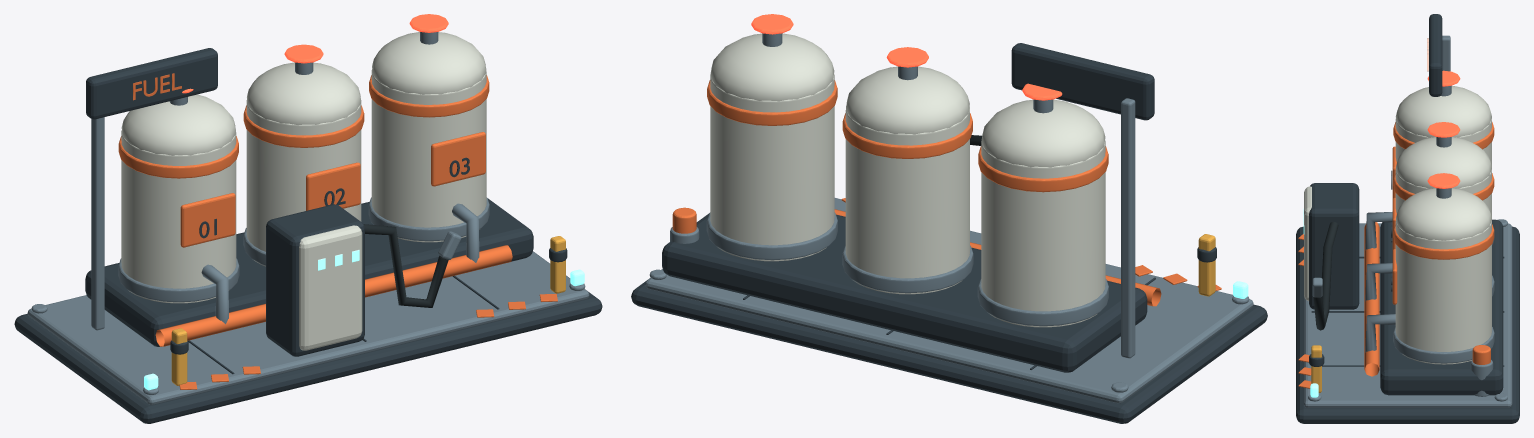
File: fuel-station.glb
3 views of the same model, side by side, from view 1: azimuth 30°, elevation 25°; view 2: azimuth 150°, elevation 25°; view 3: azimuth 270°, elevation 25° (orthographic). The views are drawn at different scales.
Visible parts, largest first — view 1: Fuel deck, Fuel pressure vessel, Fuel foundation, Fuel pressure vessel.002, Fuel tank raft, Fuel pressure vessel.001, Fuel pump skin, Fuel pump chassis, Fuel rounded crown.001, Fuel rounded crown.002, Fuel sign frame, Fuel rounded crown (+17 smaller); view 2: Fuel tank raft, Fuel deck, Fuel pressure vessel.002, Fuel pressure vessel.001, Fuel pressure vessel, Fuel foundation, Fuel rounded crown.002, Fuel rounded crown, Fuel rounded crown.001, Fuel sign frame, Fuel sign mast, Fuel lower collar (+9 smaller); view 3: Fuel pressure vessel.002, Fuel deck, Fuel tank raft, Fuel foundation, Fuel pump chassis, Fuel rounded crown.002, Fuel rounded crown.001, Fuel rounded crown, Fuel distribution manifold, Fuel upper collar.002, Fuel hose, Fuel sign frame (+17 smaller).
Part boxes in pixels (left/top/right/bottom): Fuel deck: left=27, top=251, right=589, bottom=404; Fuel pressure vessel: left=121, top=129, right=236, bottom=303; Fuel foundation: left=14, top=251, right=602, bottom=423; Fuel pressure vessel.002: left=371, top=68, right=486, bottom=242; Fuel tank raft: left=85, top=198, right=533, bottom=346; Fuel pressure vessel.001: left=246, top=100, right=361, bottom=266; Fuel pump skin: left=299, top=225, right=362, bottom=350; Fuel pump chassis: left=266, top=204, right=364, bottom=356; Fuel rounded crown.001: left=247, top=62, right=361, bottom=125; Fuel rounded crown.002: left=372, top=32, right=486, bottom=94; Fuel sign frame: left=86, top=48, right=217, bottom=119; Fuel rounded crown: left=121, top=94, right=235, bottom=155; Fuel tank raft: left=662, top=213, right=1147, bottom=372; Fuel deck: left=645, top=198, right=1253, bottom=403; Fuel pressure vessel.002: left=710, top=72, right=834, bottom=261; Fuel pressure vessel.001: left=845, top=106, right=969, bottom=294; Fuel pressure vessel: left=981, top=139, right=1105, bottom=327; Fuel foundation: left=631, top=269, right=1267, bottom=423; Fuel rounded crown.002: left=710, top=33, right=834, bottom=101; Fuel rounded crown: left=981, top=99, right=1105, bottom=167; Fuel rounded crown.001: left=846, top=66, right=969, bottom=134; Fuel sign frame: left=1011, top=43, right=1154, bottom=120; Fuel sign mast: left=1121, top=98, right=1135, bottom=358; Fuel lower collar: left=977, top=278, right=1108, bottom=326; Fuel pressure vessel.002: left=1395, top=220, right=1491, bottom=364; Fuel deck: left=1303, top=223, right=1512, bottom=407; Fuel tank raft: left=1380, top=219, right=1503, bottom=395; Fuel foundation: left=1296, top=226, right=1519, bottom=423; Fuel pump chassis: left=1309, top=183, right=1359, bottom=309; Fuel rounded crown.002: left=1395, top=188, right=1491, bottom=240; Fuel rounded crown.001: left=1395, top=137, right=1491, bottom=188; Fuel rounded crown: left=1395, top=86, right=1491, bottom=137; Fuel distribution manifold: left=1364, top=222, right=1379, bottom=376; Fuel upper collar.002: left=1393, top=224, right=1494, bottom=259; Fuel hose: left=1313, top=221, right=1338, bottom=330; Fuel sign frame: left=1429, top=14, right=1442, bottom=96.
Size of the model in its own units: 4.35 by 2.54 by 2.18.
